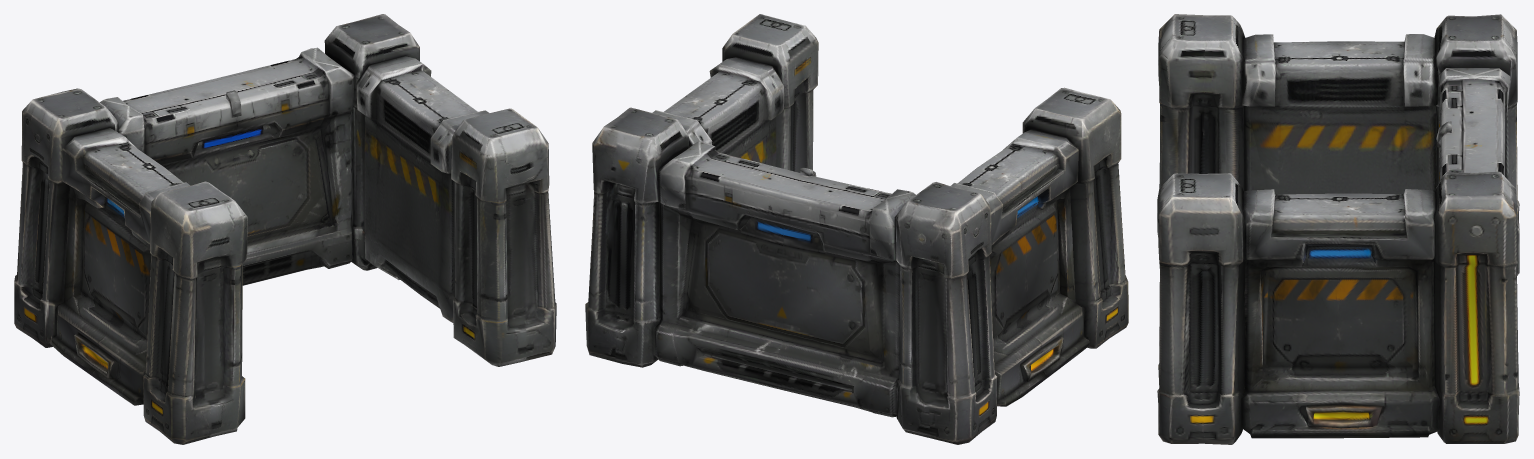
The model's file is wall_L_shape.glb.
3 views of the same model, side by side, from view 1: azimuth 30°, elevation 25°; view 2: azimuth 150°, elevation 25°; view 3: azimuth 270°, elevation 25° (orthographic). The views are drawn at different scales.
Visible parts, largest first — view 1: mesh_node; view 2: mesh_node; view 3: mesh_node.
Part boxes in pixels (x1,y1,x2,y2): mesh_node: [14, 14, 556, 444]; mesh_node: [585, 14, 1128, 444]; mesh_node: [1157, 14, 1519, 444].
Size of the model in its own units: 1.07 by 0.6 by 0.8167.
1 material, 1 textured.
